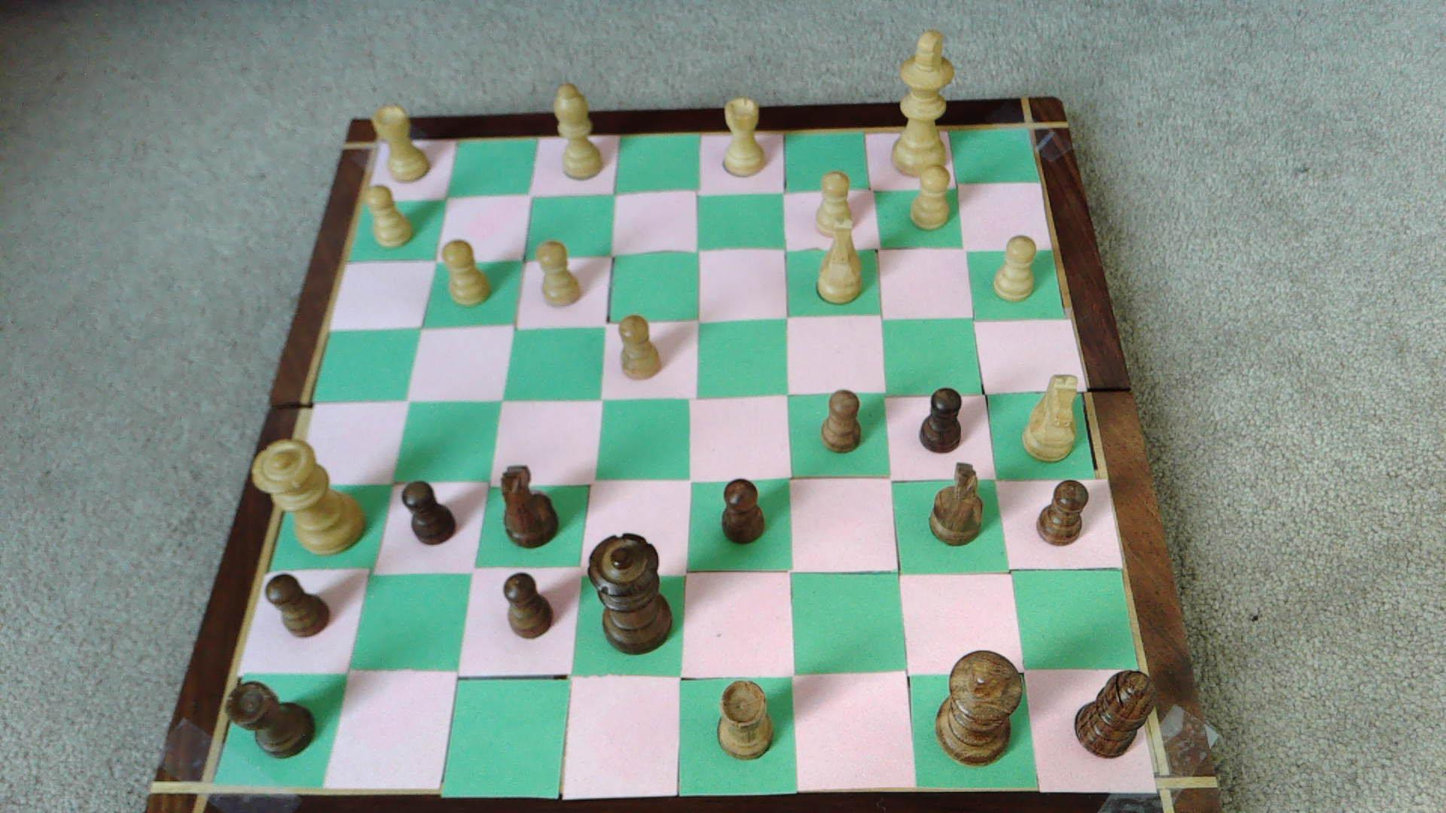dark_piece: (936, 650, 1022, 766), (589, 532, 671, 653), (1075, 670, 1153, 757), (227, 681, 313, 757), (502, 466, 557, 548), (930, 462, 983, 544), (718, 679, 773, 758), (266, 574, 329, 636), (402, 482, 455, 544), (1037, 481, 1088, 545), (503, 573, 552, 638), (919, 388, 962, 452), (722, 479, 764, 543), (821, 389, 861, 452)
white_piece: (255, 439, 364, 554), (891, 30, 956, 176), (1022, 374, 1079, 461), (552, 85, 603, 180), (372, 104, 430, 182), (816, 226, 863, 304), (722, 97, 767, 177), (442, 241, 491, 305), (993, 234, 1037, 301), (537, 241, 582, 306), (619, 315, 662, 379), (369, 186, 413, 248), (910, 166, 952, 230), (814, 171, 853, 238)
